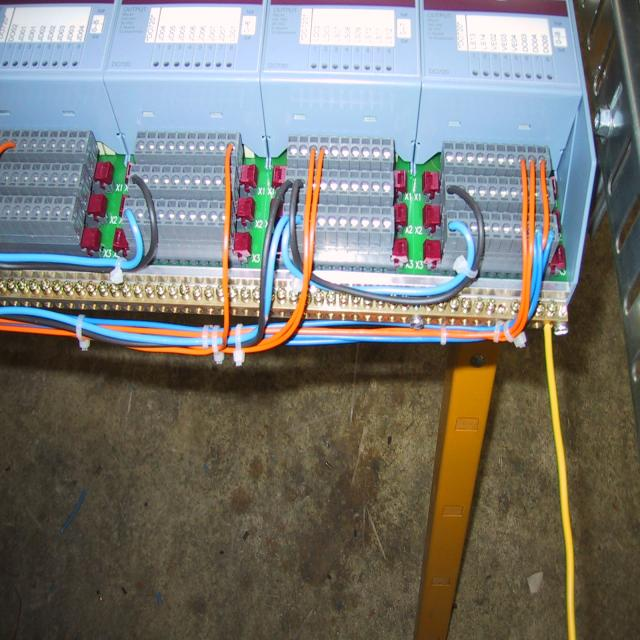Klemmenleiste: (444, 145, 565, 279), (286, 136, 401, 268), (138, 134, 251, 260)
SPS-System -Steuerungskomponente-: (421, 1, 583, 92), (260, 0, 419, 86), (105, 0, 268, 80), (0, 128, 109, 247), (0, 1, 118, 76)
